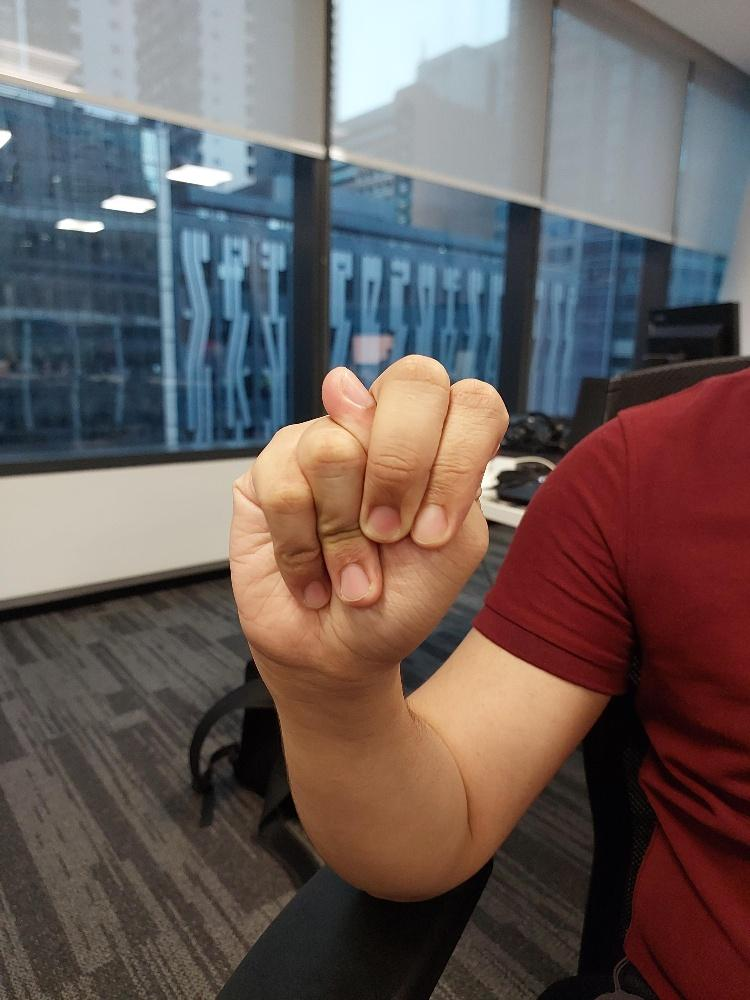n: (225, 353, 513, 686)
